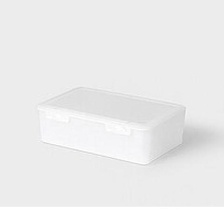plastic_box: (29, 78, 192, 171)
